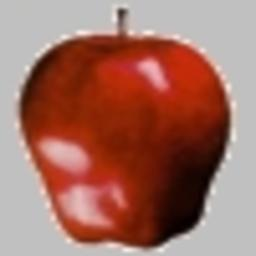apple: (20, 30, 232, 243)
